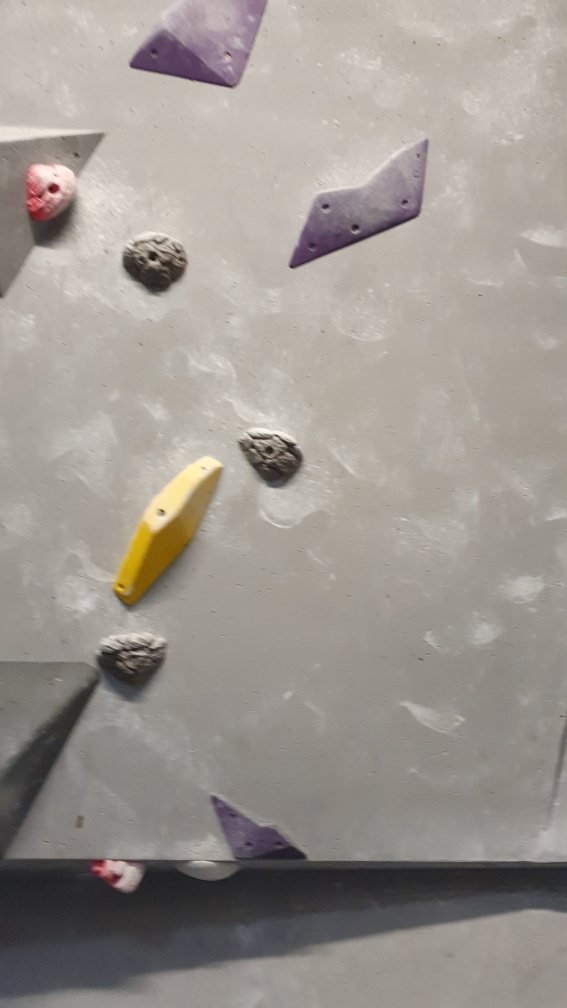Jug: (93, 628, 174, 694), (122, 227, 192, 292), (238, 427, 308, 491), (23, 160, 78, 225), (90, 852, 152, 898)
Pinch: (116, 450, 226, 611)
